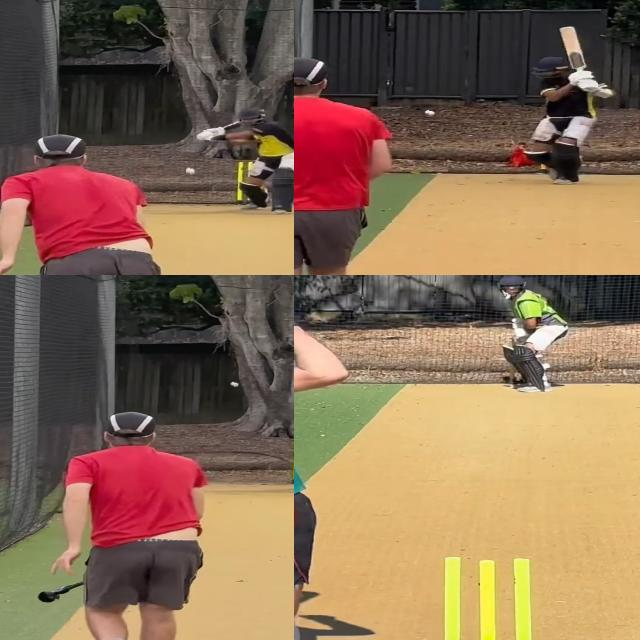Cricket ball: (185, 166, 197, 175), (229, 380, 242, 387), (424, 109, 436, 116)
